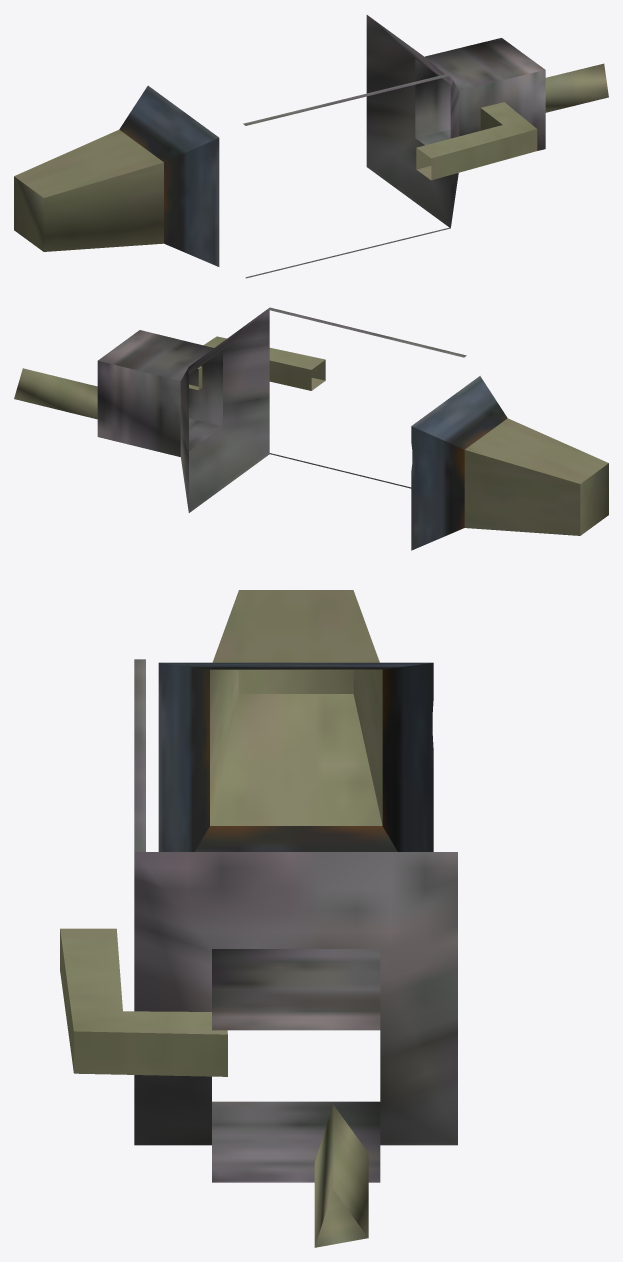
Rendered from ship_component_engine_s02_l3.fbx.
3 views of the same model, one above another, from view 1: azimuth 30°, elevation 25°; view 2: azimuth 150°, elevation 25°; view 3: azimuth 270°, elevation 25° (orthographic). The views are drawn at different scales.
Parts seen in each view (by area): view 1: mesh_node; view 2: mesh_node; view 3: mesh_node.
Boxes of the visible parts, box(x1,y1,x2,y2) form: mesh_node: box(14, 15, 608, 278); mesh_node: box(14, 307, 608, 550); mesh_node: box(60, 590, 457, 1247).
Bounding box in the file's own units: 2.92 × 0.7287 × 1.2.
Materials: 1 (1 with a texture image).
